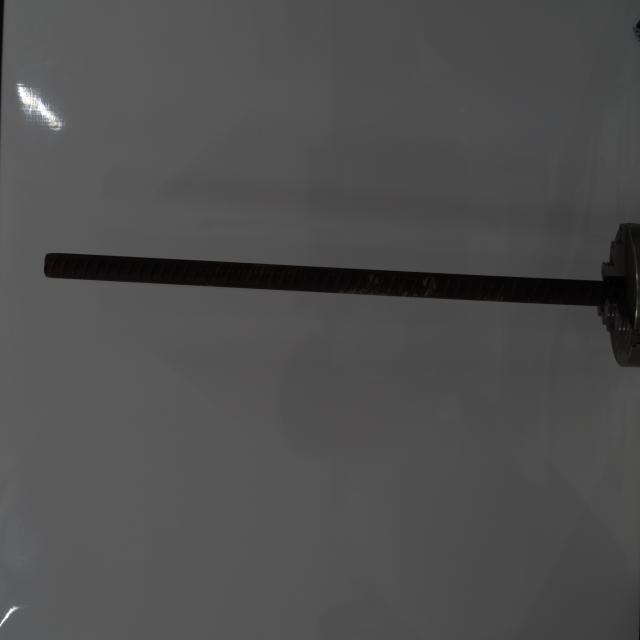ribbed bar: (40, 252, 599, 312)
